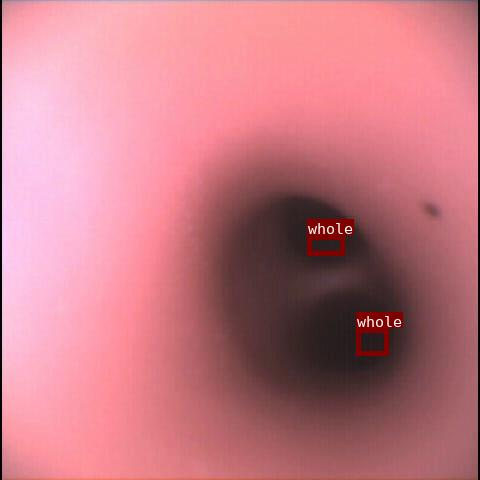whole: (356, 328, 388, 355), (307, 235, 344, 255)
